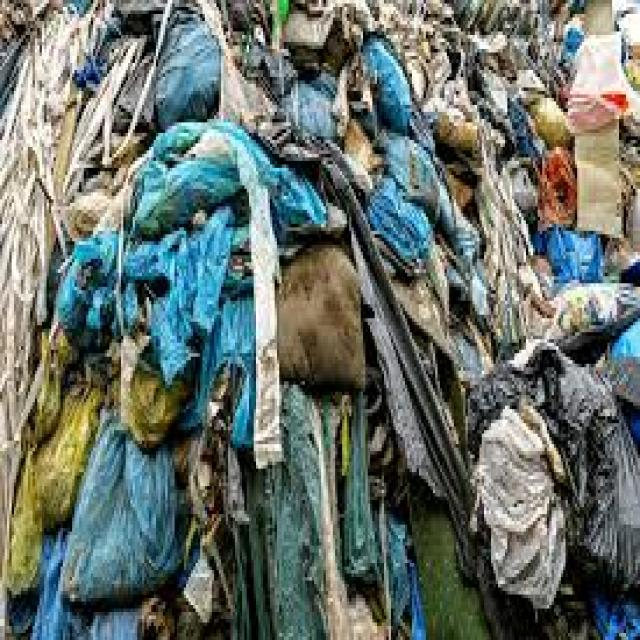Clothes -Biodegradable-: (0, 0, 640, 640)
Plastic -Non-Biodegradable but Recyclable-: (466, 347, 640, 580)
